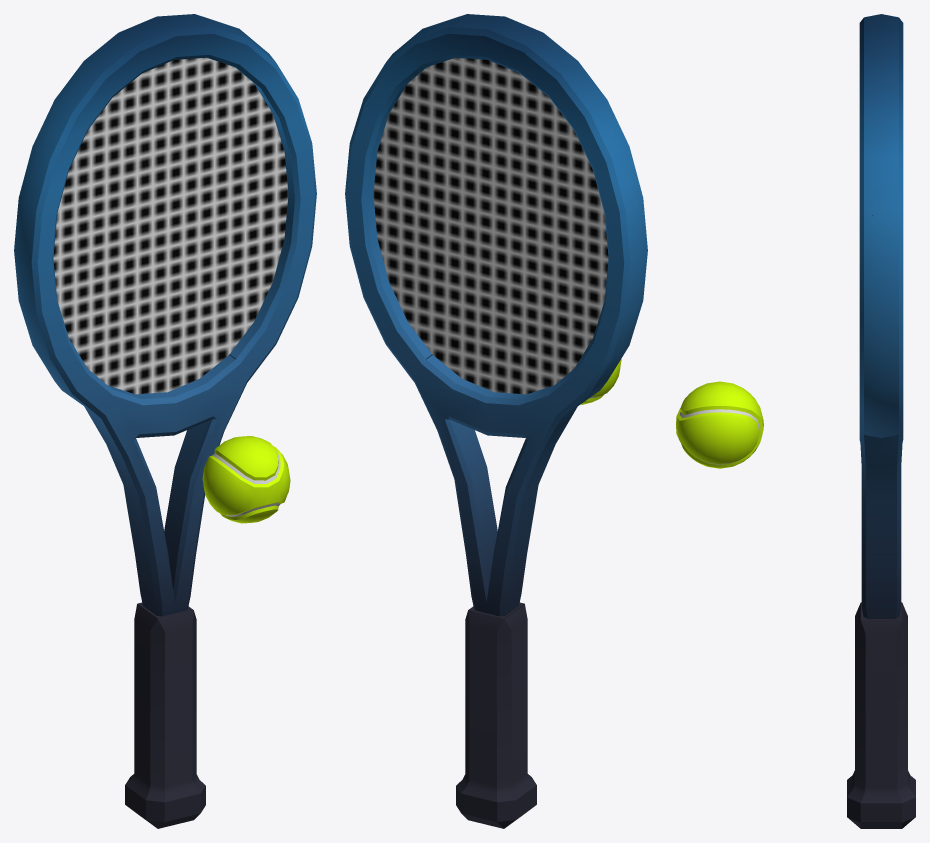
Rendered from racket.glb.
The picture shows the model from 3 angles, left to right: view 1: azimuth 30°, elevation 25°; view 2: azimuth 150°, elevation 25°; view 3: azimuth 270°, elevation 25°; orthographic projection.
Parts seen in each view (by area): view 1: TennisRacketV1, TennisV1; view 2: TennisRacketV1; view 3: TennisRacketV1, TennisV1.
Boxes of the visible parts, x1=… form: TennisRacketV1: x1=14, y1=14, x2=316, y2=828; TennisV1: x1=202, y1=436, x2=290, y2=523; TennisRacketV1: x1=345, y1=14, x2=647, y2=828; TennisRacketV1: x1=847, y1=14, x2=915, y2=828; TennisV1: x1=676, y1=381, x2=763, y2=468.
Bounding box in the file's own units: 2.07 × 5.43 × 1.49.
Materials: 2 (2 with a texture image).
